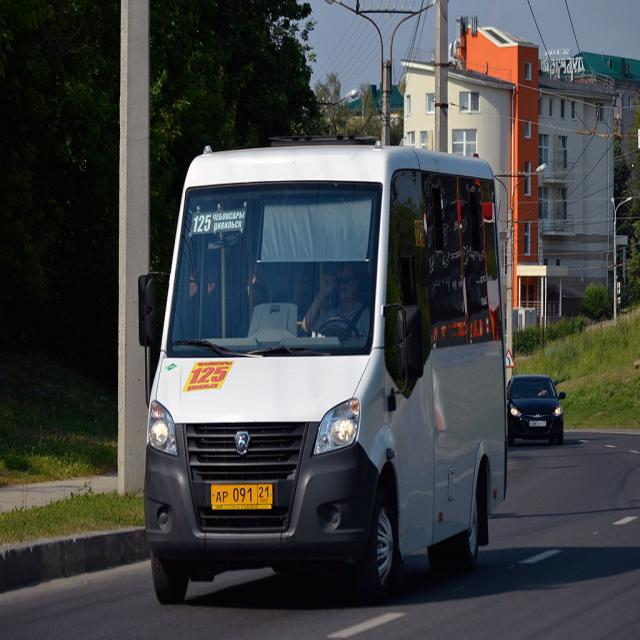number-of-bus: (192, 359, 232, 394), (193, 212, 214, 236)
